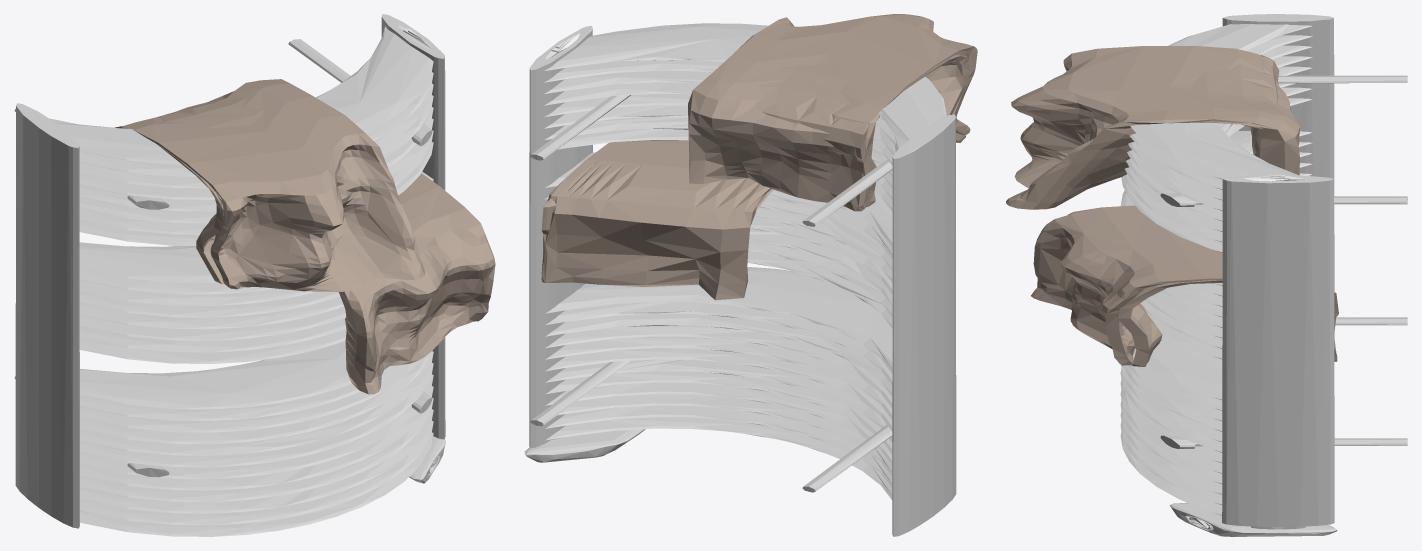
Rendered from sh-bsby-radiator-and-towels.glb.
The picture shows the model from 3 angles, left to right: view 1: azimuth 30°, elevation 25°; view 2: azimuth 150°, elevation 25°; view 3: azimuth 270°, elevation 25°; orthographic projection. The views are drawn at different scales.
Visible parts, largest first — view 1: heated.tower_Cylinder.002, towel.001_Plane.004; view 2: heated.tower_Cylinder.002, towel.001_Plane.004; view 3: heated.tower_Cylinder.002, towel.001_Plane.004.
Boxes of the visible parts, x1=… form: heated.tower_Cylinder.002: x1=14, y1=14, x2=445, y2=536; towel.001_Plane.004: x1=115, y1=79, x2=495, y2=394; heated.tower_Cylinder.002: x1=524, y1=23, x2=956, y2=536; towel.001_Plane.004: x1=541, y1=14, x2=977, y2=300; heated.tower_Cylinder.002: x1=1120, y1=14, x2=1407, y2=536; towel.001_Plane.004: x1=1006, y1=46, x2=1338, y2=366.
Bounding box in the file's own units: 1 × 0.9996 × 1.
